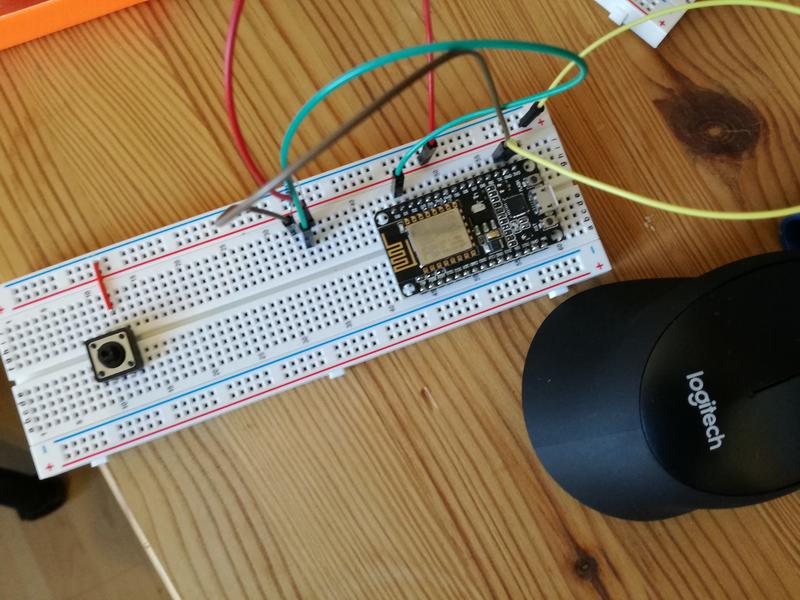ESP8266: (370, 156, 571, 300)
